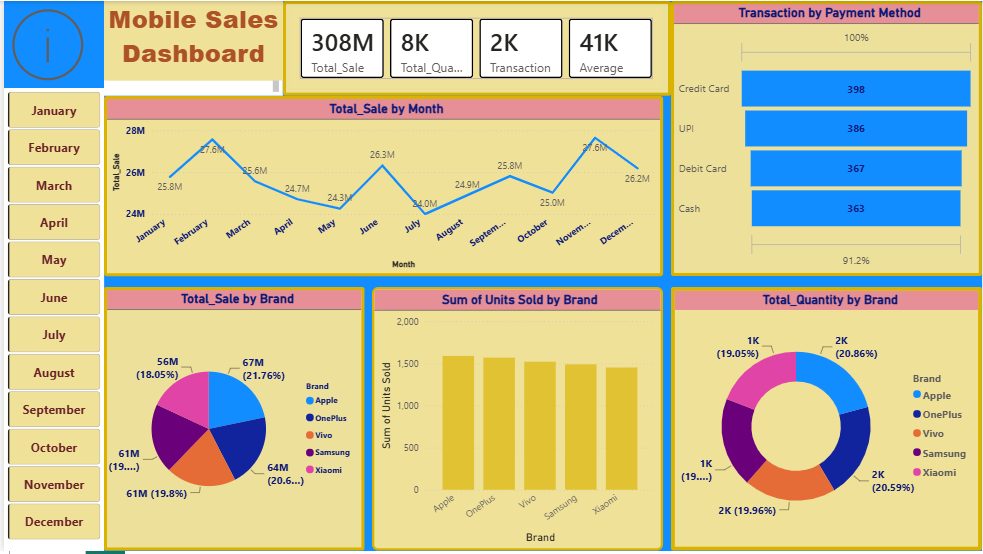

The dashboard page shown, as its layout file describes it:
{"tool":"powerbi","page":{"name":"Page 1","canvas":[1280,720],"ordinal":0},"visuals":[{"type":"shape","box":[0,114.2,131,606.4],"z":0},{"type":"advancedSlicerVisual","fields":{"Values":["Sales_Data.Date.Variation.Date Hierarchy.Month"]},"box":[0,114.2,131,606.4],"z":1000},{"type":"pieChart","fields":{"Category":["Sales_Data.Brand"],"Y":["Sales_Data.Total_Sale"]},"box":[130.8,374.4,341.3,345.5],"z":2000},{"type":"columnChart","fields":{"Category":["Sales_Data.Brand"],"Y":["Sum(Sales_Data.Units Sold)"]},"box":[481.7,374.4,381.2,345.5],"z":3000},{"type":"lineChart","fields":{"Category":["Sales_Data.Date.Variation.Date Hierarchy.Month"],"Y":["Sales_Data.Total_Sale"]},"box":[130.9,124.4,731.8,235.6],"z":4000},{"type":"donutChart","fields":{"Category":["Sales_Data.Brand"],"Y":["Sales_Data.Total_Quantity"]},"box":[872.6,374.4,407.4,345.5],"z":5000},{"type":"funnel","fields":{"Category":["Sales_Data.Payment Method"],"Y":["Sales_Data.Transaction"]},"box":[873.2,0,407.1,360],"z":6000},{"type":"actionButton","box":[0,0,130.8,114.6],"z":7000},{"type":"cardVisual","fields":{"Data":["Sales_Data.Total_Sale","Sales_Data.Total_Quantity","Sales_Data.Transaction","Sales_Data.Average"]},"box":[365.2,0,507.9,124.4],"z":8000},{"type":"textbox","title":"Mobile Sales Dashboard","box":[130.9,0,234.3,124.4],"z":9000}]}

Visuals, with their boxes in screenshot pixels (x1, y1, x2, y2), scaled from the page's 1280x720 canvas onto the 983x554 screenshot:
shape: <region>0, 88, 101, 553</region>
advancedSlicerVisual - Sales_Data.Date.Variation.Date Hierarchy.Month: <region>0, 88, 101, 553</region>
pieChart - Sales_Data.Brand x Sales_Data.Total_Sale: <region>100, 288, 363, 553</region>
columnChart - Sales_Data.Brand x Sum(Sales_Data.Units Sold): <region>370, 288, 663, 553</region>
lineChart - Sales_Data.Date.Variation.Date Hierarchy.Month x Sales_Data.Total_Sale: <region>101, 96, 663, 277</region>
donutChart - Sales_Data.Brand x Sales_Data.Total_Quantity: <region>670, 288, 982, 553</region>
funnel - Sales_Data.Payment Method x Sales_Data.Transaction: <region>671, 0, 982, 277</region>
actionButton: <region>0, 0, 100, 88</region>
cardVisual - Sales_Data.Total_Sale x Sales_Data.Total_Quantity: <region>280, 0, 671, 96</region>
"Mobile Sales Dashboard" textbox: <region>101, 0, 280, 96</region>
